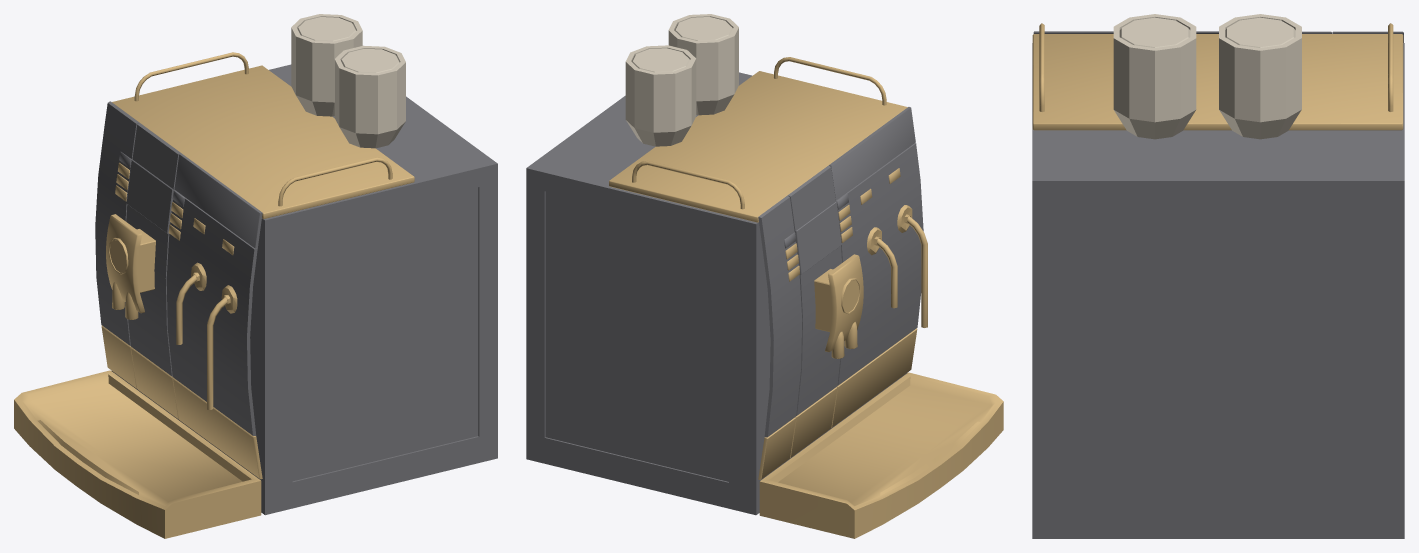
Rendered from Coffe_Machine.fbx.
The picture shows the model from 3 angles, left to right: view 1: azimuth 30°, elevation 25°; view 2: azimuth 150°, elevation 25°; view 3: azimuth 270°, elevation 25°; orthographic projection. The views are drawn at different scales.
Visible parts, largest first — view 1: Coffe_Machine; view 2: Coffe_Machine; view 3: Coffe_Machine.
Boxes of the visible parts, x1,y1,x2,y2 form: Coffe_Machine: (14, 14, 497, 538); Coffe_Machine: (526, 14, 1003, 538); Coffe_Machine: (1032, 14, 1404, 538).
Size of the model in its own units: 53.32 by 56.33 by 41.16.
